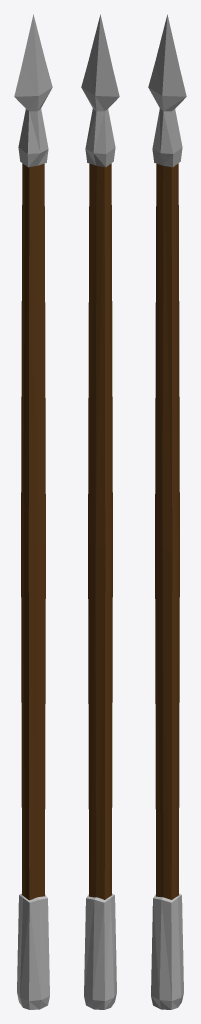
File: Pike.glb
The picture shows the model from 3 angles, left to right: view 1: azimuth 30°, elevation 25°; view 2: azimuth 150°, elevation 25°; view 3: azimuth 330°, elevation 25°; orthographic projection.
Parts seen in each view (by area): view 1: Pike_Pike_Cube.001; view 2: Pike_Pike_Cube.001; view 3: Pike_Pike_Cube.001.
Part boxes in pixels (x1,y1,x2,y2): Pike_Pike_Cube.001: (14, 14, 52, 1009); Pike_Pike_Cube.001: (81, 14, 119, 1009); Pike_Pike_Cube.001: (148, 14, 186, 1009).
Bounding box in the file's own units: 0.4167 × 10.27 × 0.296.
1 material, 1 textured.
